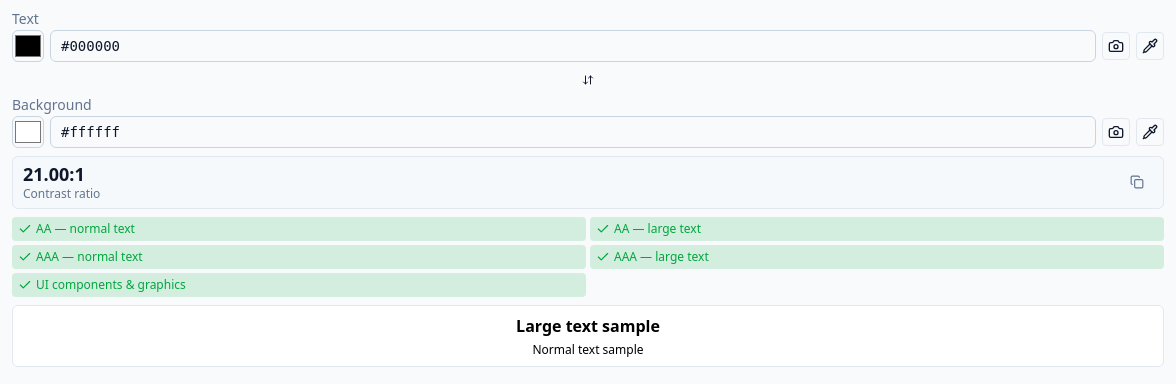
Scenario: WcagCheckerWidget › recomputes the ratio and pass/fail state when a hex value changes
This screenshot has width=1176, height=384.
Replace the text in the field labelled "Text" with "#767676" at (573, 46), box [50,30,1096,62]
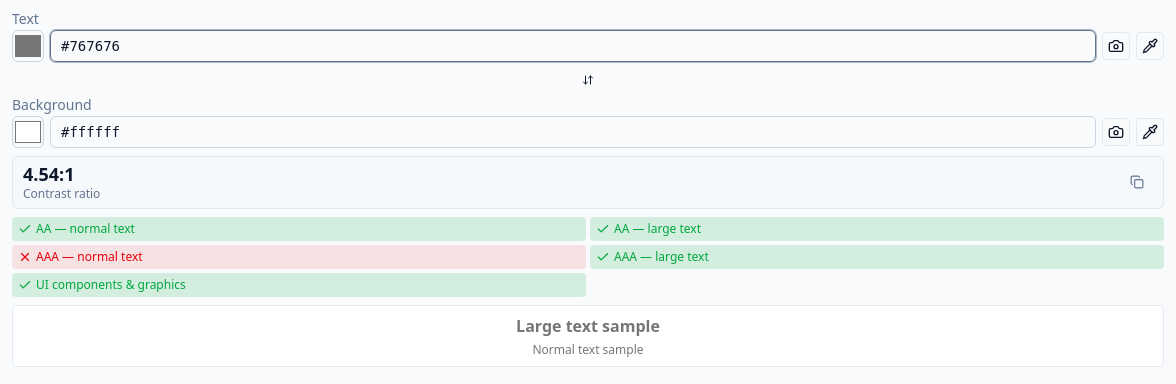
Now the text "4.54:1" is shown, box [23,162,74,186]
